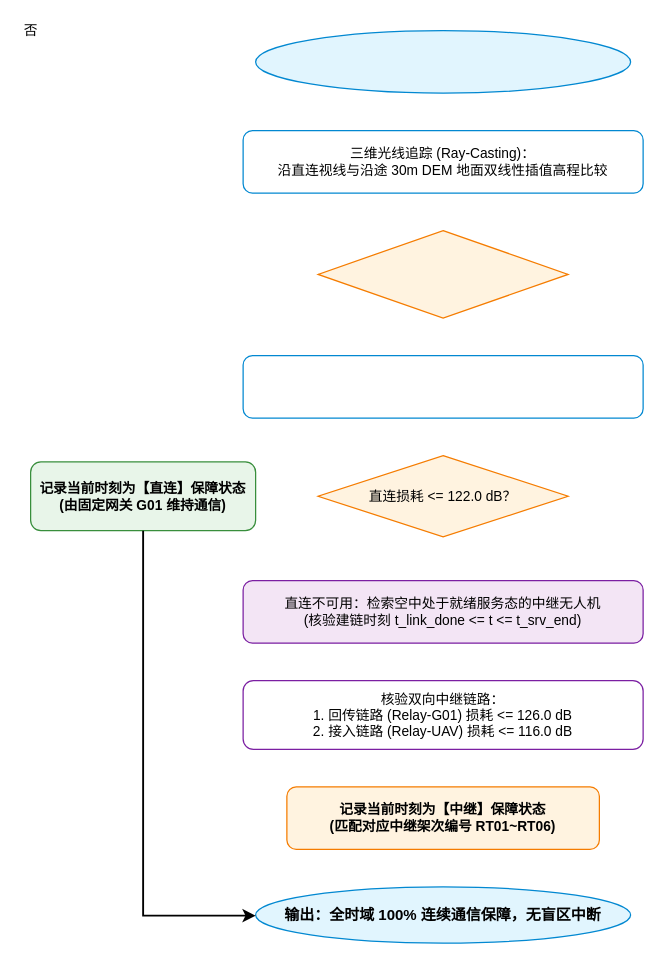
This 666x966 diagram has some shape labels left out. The centre of each missing label's shape, as x and y in pixels:
视线是否穿透山体 (存在 z <= H_DEM)？: pixel 442 273
计算自由空间衰减 + 附加损耗 (若遮挡 +10dB) 计算双向链路最大允许门限 L_max = 122.0 dB: pixel 442 386
输入：时刻 t 运输无人机三维坐标 (lon, lat, alt): pixel 442 61
